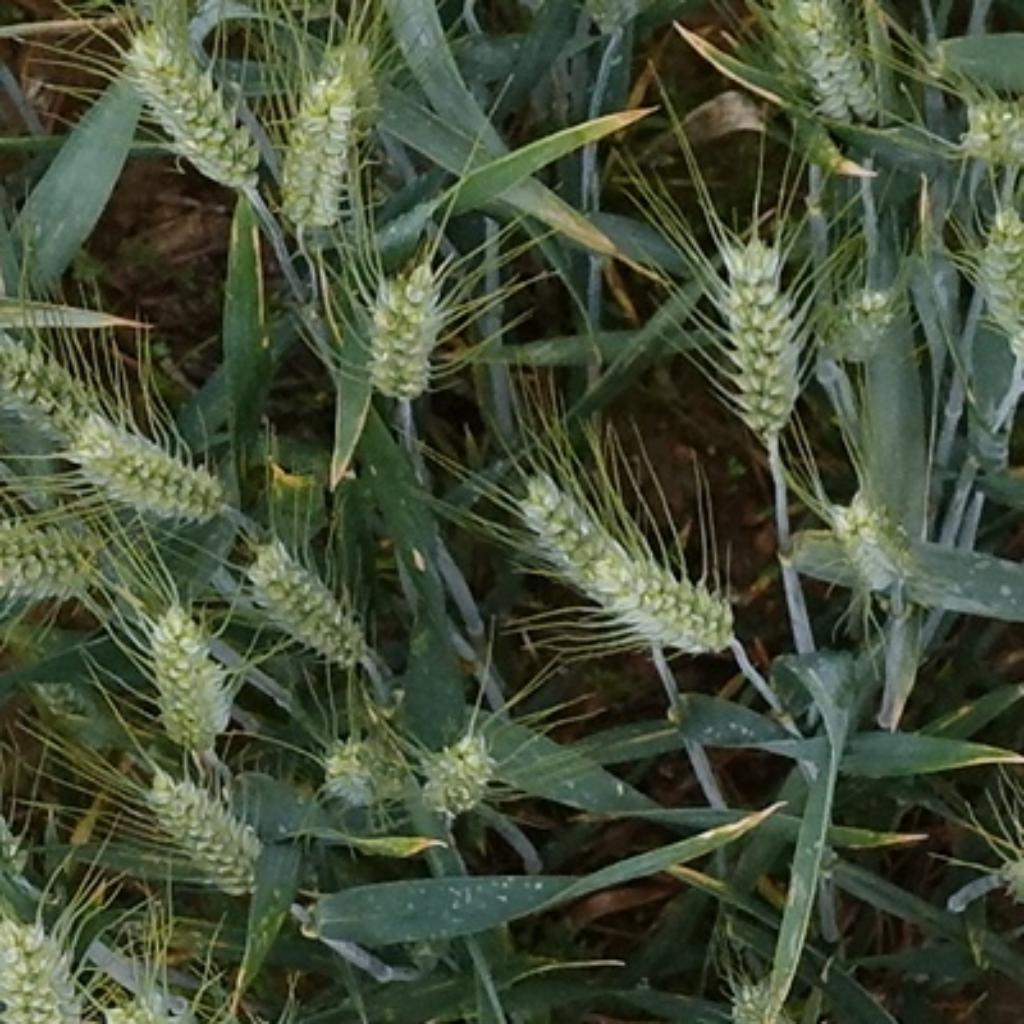0-0: (107, 12, 273, 192), (266, 25, 384, 238), (698, 225, 811, 437), (55, 403, 229, 529), (585, 554, 746, 679), (235, 527, 373, 663), (133, 760, 268, 885), (512, 458, 626, 604), (769, 2, 896, 133), (133, 596, 238, 750), (350, 248, 455, 401), (2, 314, 109, 444), (814, 483, 929, 588), (1, 504, 110, 612), (806, 261, 911, 366), (314, 716, 414, 806), (2, 913, 79, 1024), (409, 721, 501, 811), (972, 197, 1024, 355), (949, 79, 1024, 168), (719, 957, 793, 1024), (100, 980, 207, 1024)
